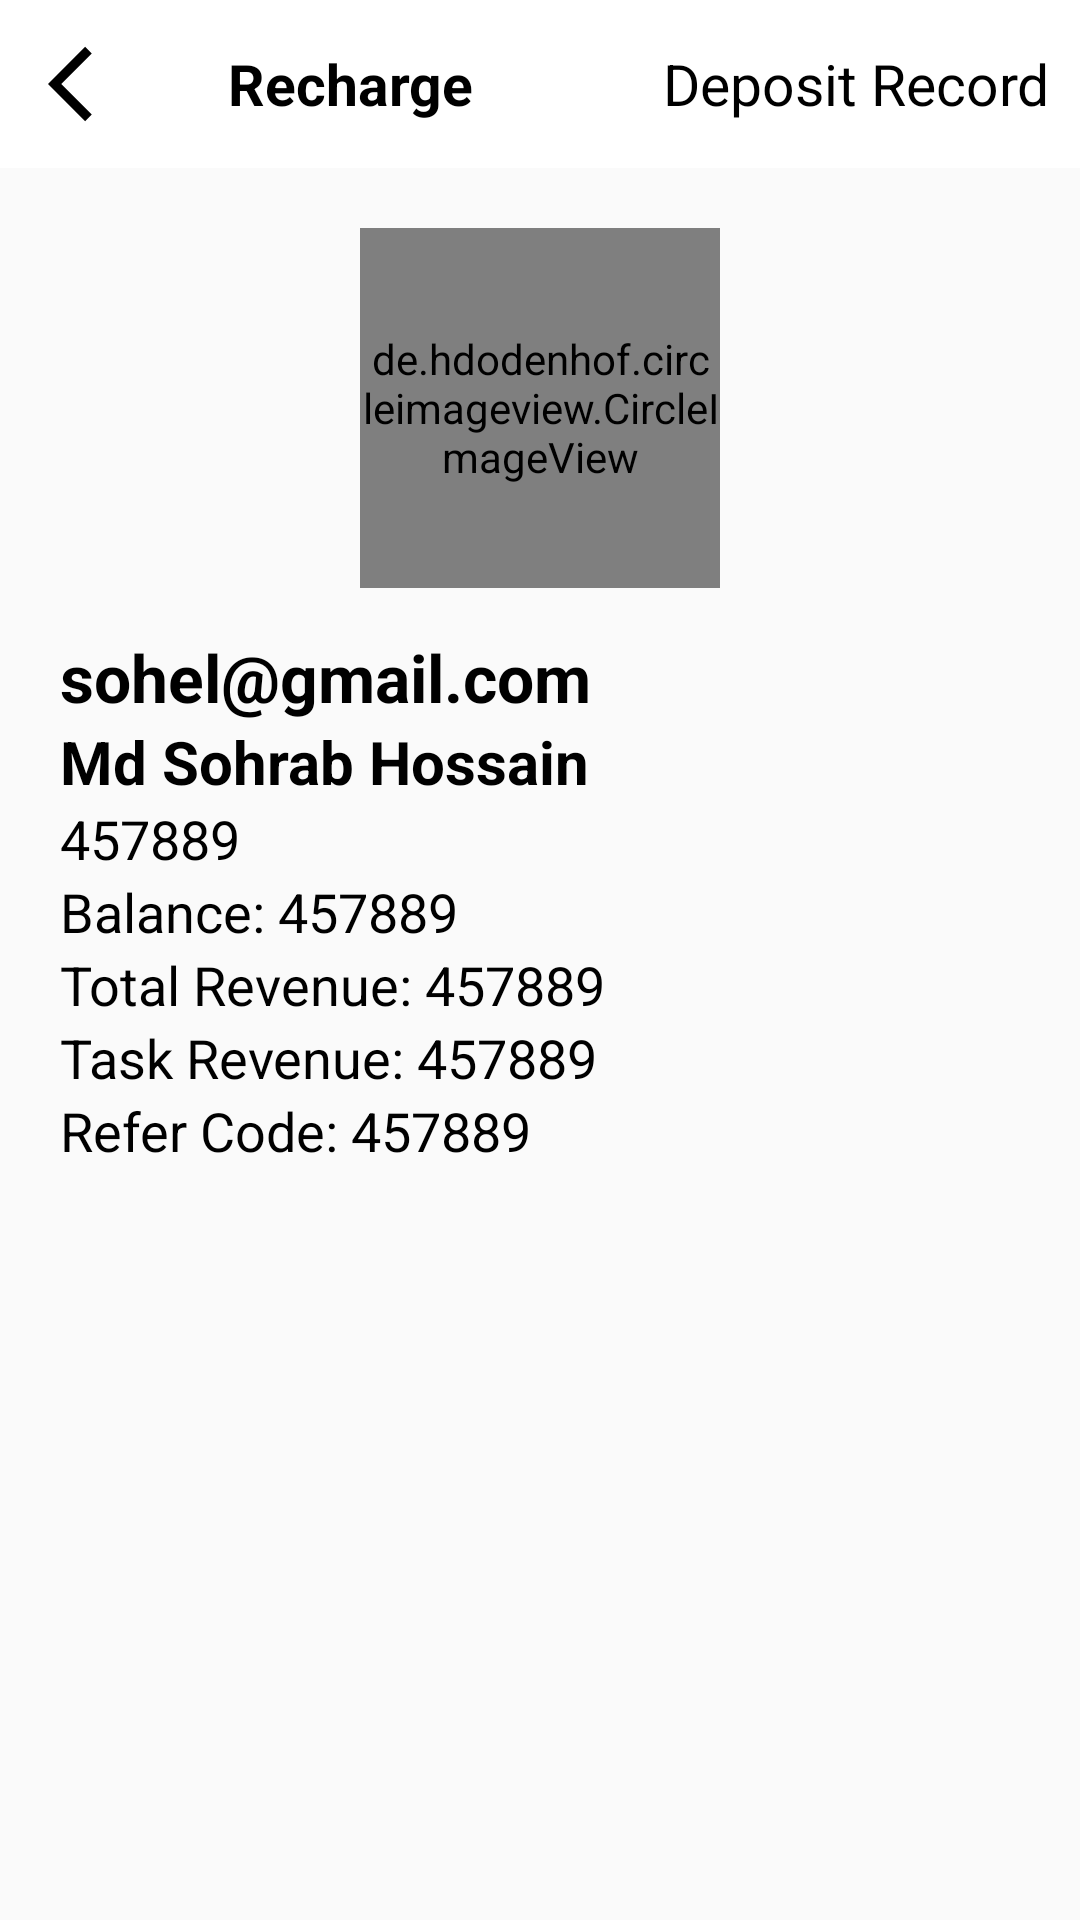

Named icons in this screenshot (1080 × 1920) and their centers, (x,y):
back: (70,84)
